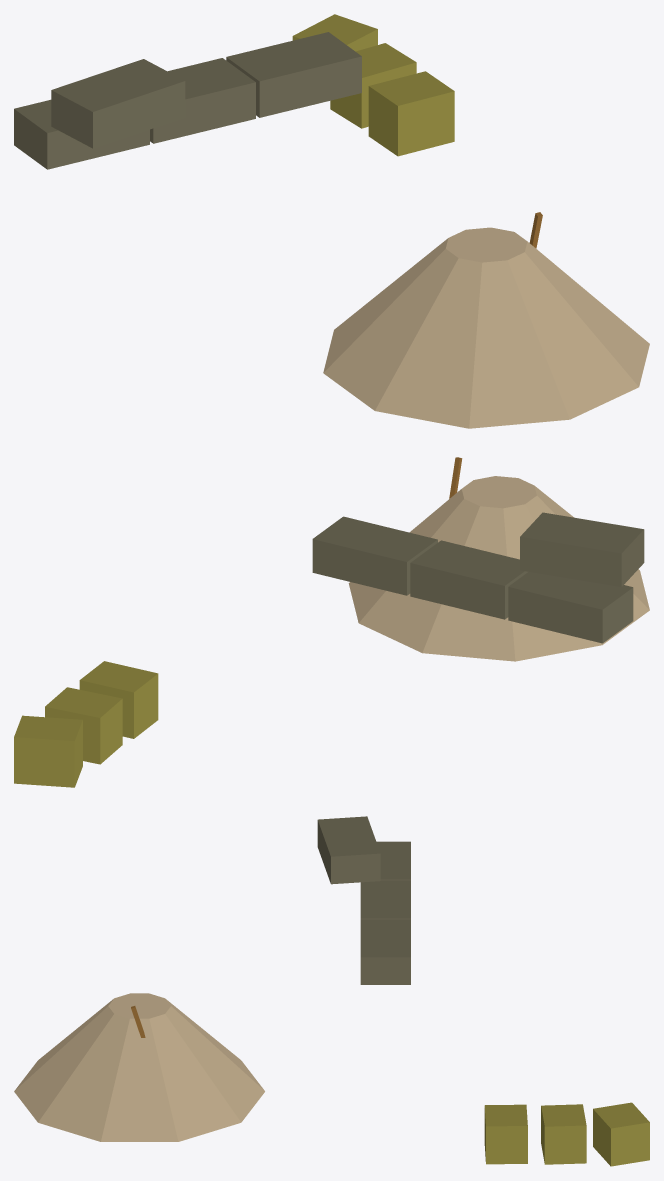
The model's file is SM_ObraSacos_v3_10m_LOD0.fbx.
3 renders of one model, top to bottom at view 1: azimuth 30°, elevation 25°; view 2: azimuth 150°, elevation 25°; view 3: azimuth 270°, elevation 25°, orthographic. The views are drawn at different scales.
Parts seen in each view (by area): view 1: SM_obra_curso_v7_LOD0; view 2: SM_obra_curso_v7_LOD0; view 3: SM_obra_curso_v7_LOD0.
Boxes of the visible parts, x1=… form: SM_obra_curso_v7_LOD0: x1=14, y1=14, x2=649, y2=428; SM_obra_curso_v7_LOD0: x1=14, y1=457, x2=649, y2=787; SM_obra_curso_v7_LOD0: x1=14, y1=816, x2=649, y2=1166.
Size of the model in its own units: 4.12 by 1.82 by 6.07.
